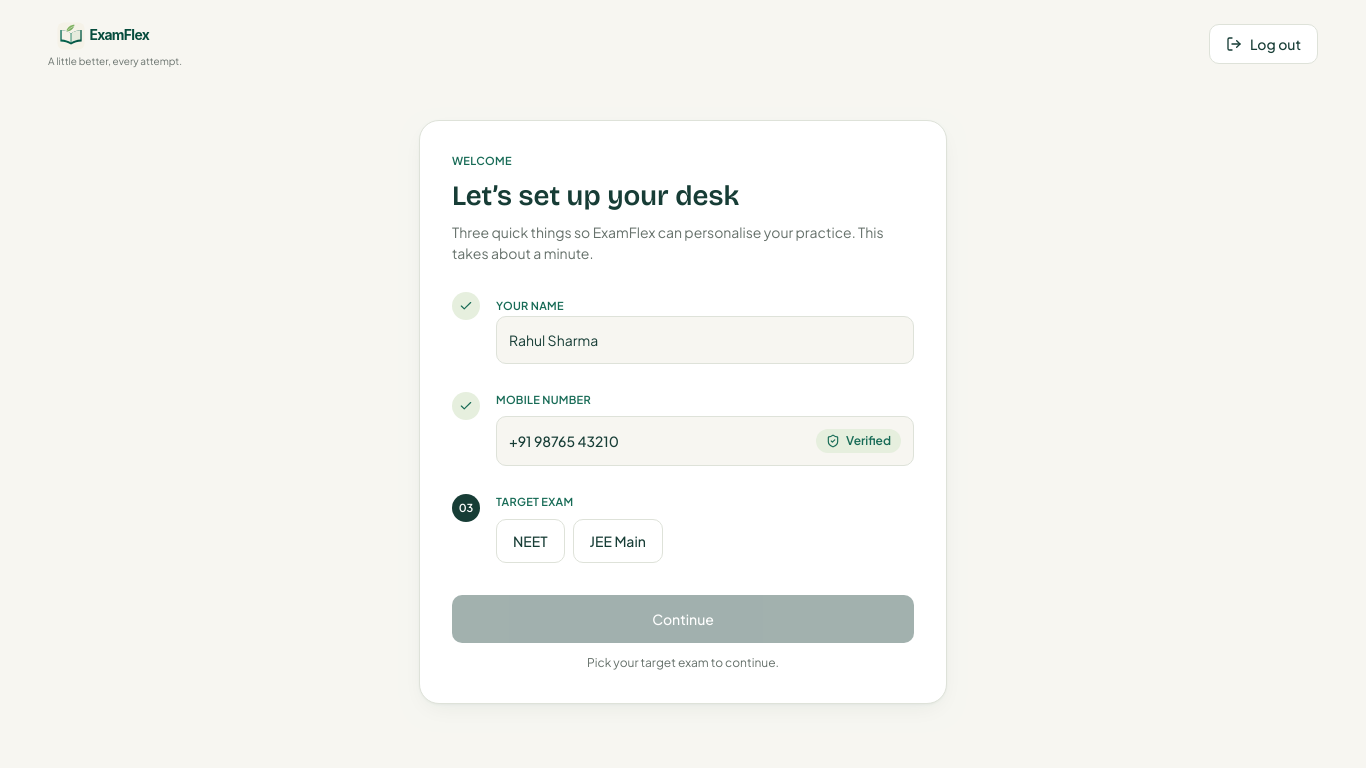
Test: OnboardingScreen › target exam › lets the learner pick one exam and switch
The width and height of the screenshot is (1366, 768).
Click the radio button labelled "NEET": (530,541) [496,519,565,563]
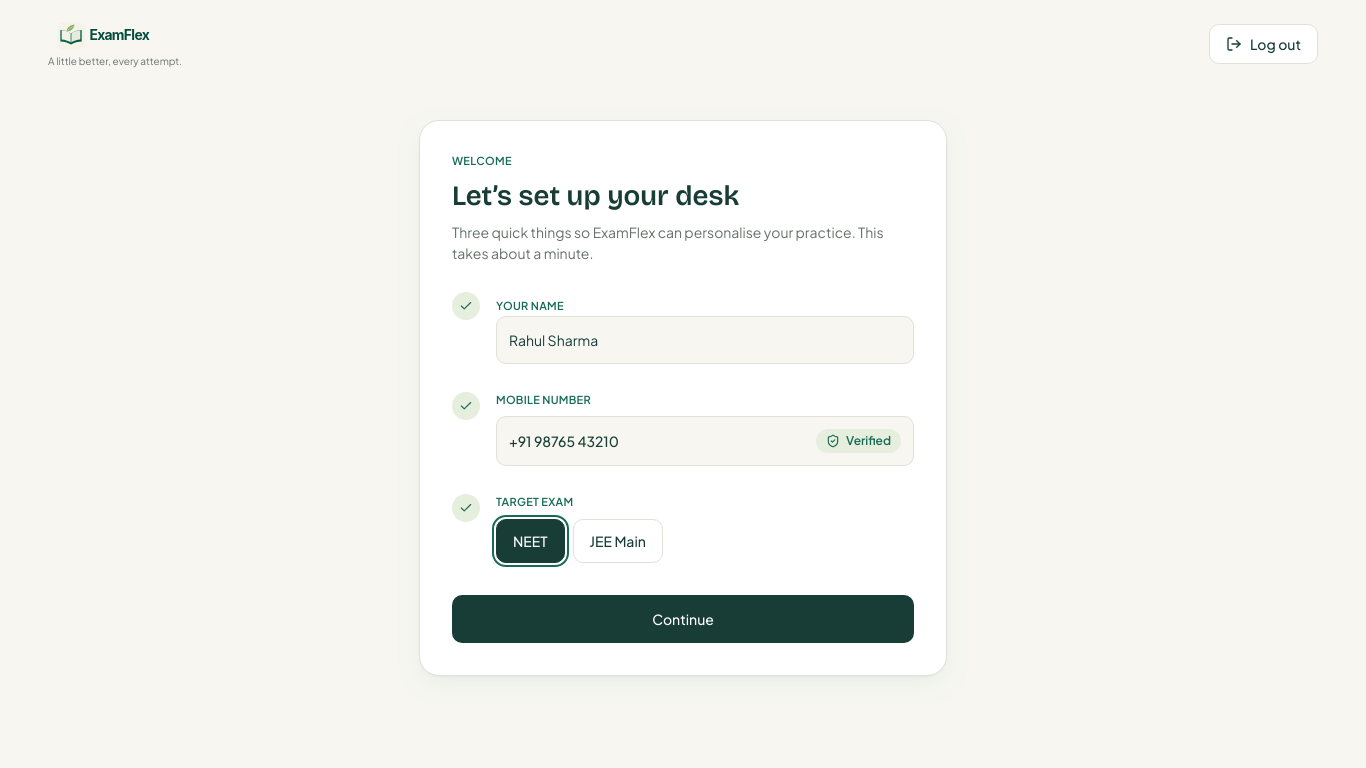
Result: the radio button labelled "NEET" is checked at [496,519,565,563]
Click the radio button labelled "JEE Main": (618,541) [573,519,663,563]
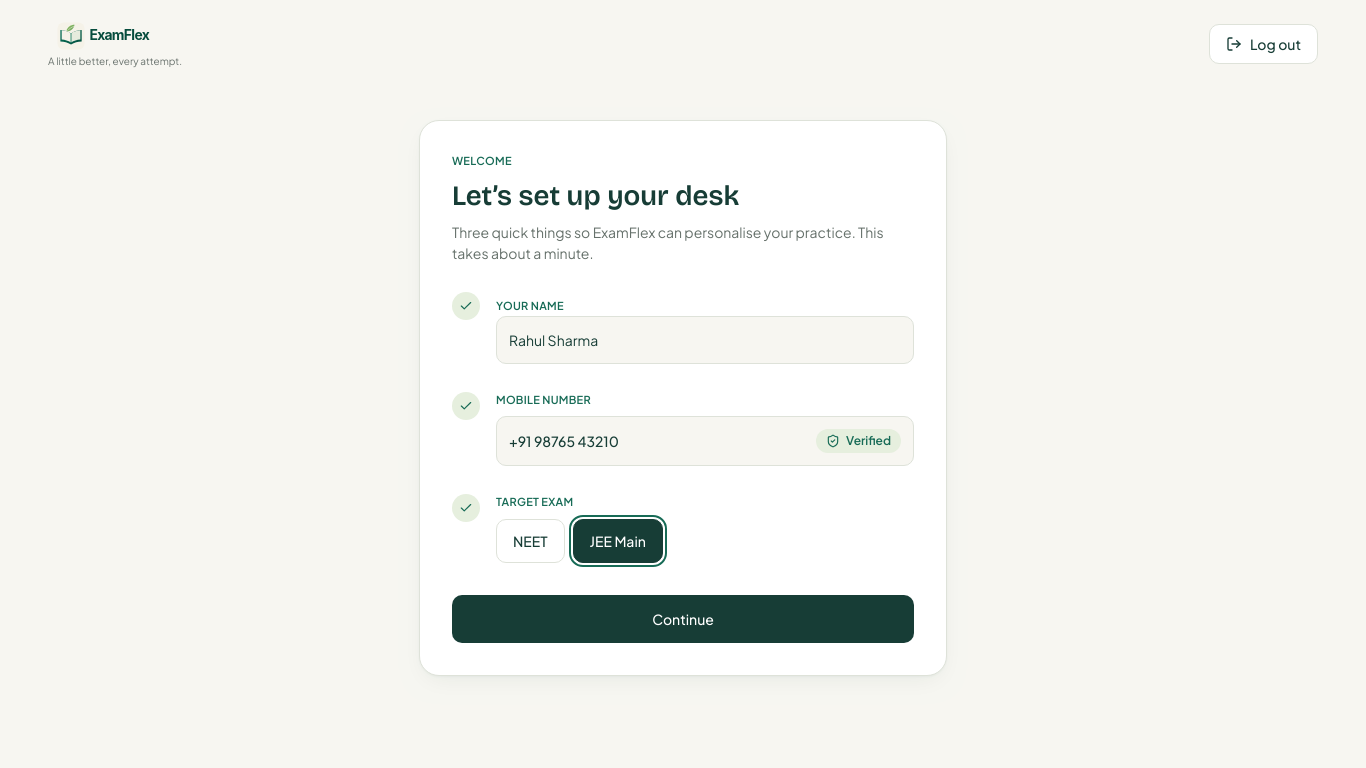
Result: the radio button labelled "NEET" is not checked at [496,519,565,563]
Result: the radio button labelled "JEE Main" is checked at [573,519,663,563]
